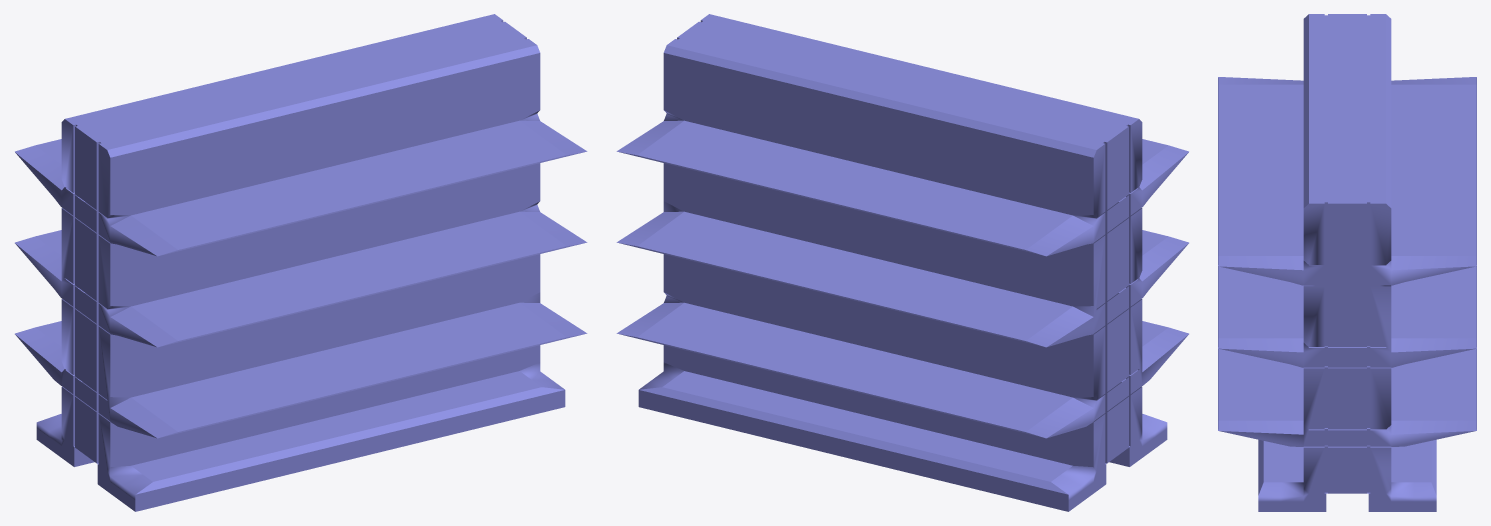
Rendered from shelfMarker.fbx.
The picture shows the model from 3 angles, left to right: view 1: azimuth 30°, elevation 25°; view 2: azimuth 150°, elevation 25°; view 3: azimuth 270°, elevation 25°; orthographic projection. The views are drawn at different scales.
Parts seen in each view (by area): view 1: Box001; view 2: Box001; view 3: Box001.
Boxes of the visible parts, x1=… form: Box001: x1=15, y1=14, x2=587, y2=511; Box001: x1=616, y1=14, x2=1188, y2=511; Box001: x1=1218, y1=14, x2=1476, y2=511.
Size of the model in its own units: 19.78 by 15 by 11.4.
